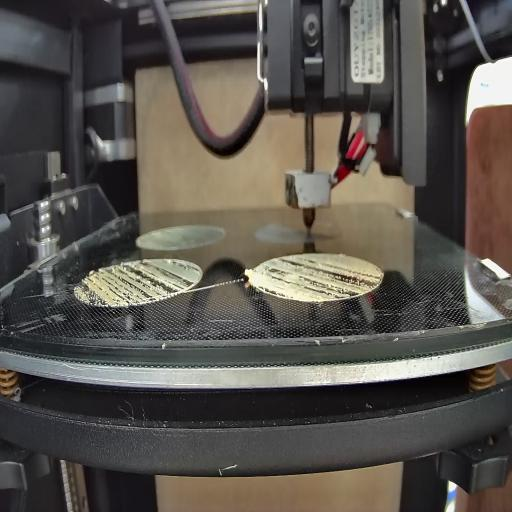under_extrusion: (73, 262, 200, 306), (255, 260, 382, 294)
